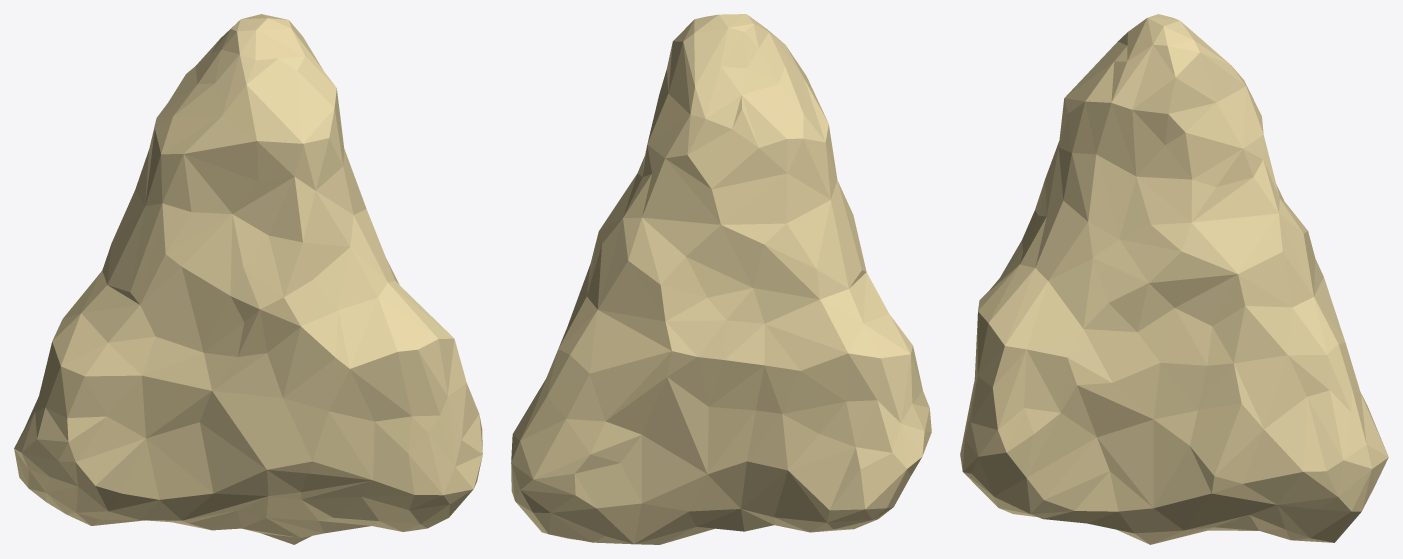
The model's file is Asteroid (15).fbx.
3 renders of one model, left to right at view 1: azimuth 30°, elevation 25°; view 2: azimuth 150°, elevation 25°; view 3: azimuth 270°, elevation 25°, orthographic. The views are drawn at different scales.
Parts seen in each view (by area): view 1: Asteroid196; view 2: Asteroid196; view 3: Asteroid196.
Part boxes in pixels (<box>): Asteroid196: <box>14,14,482,544</box>; Asteroid196: <box>511,14,931,544</box>; Asteroid196: <box>960,14,1388,544</box>.
Size of the model in its own units: 200 by 277 by 216.
